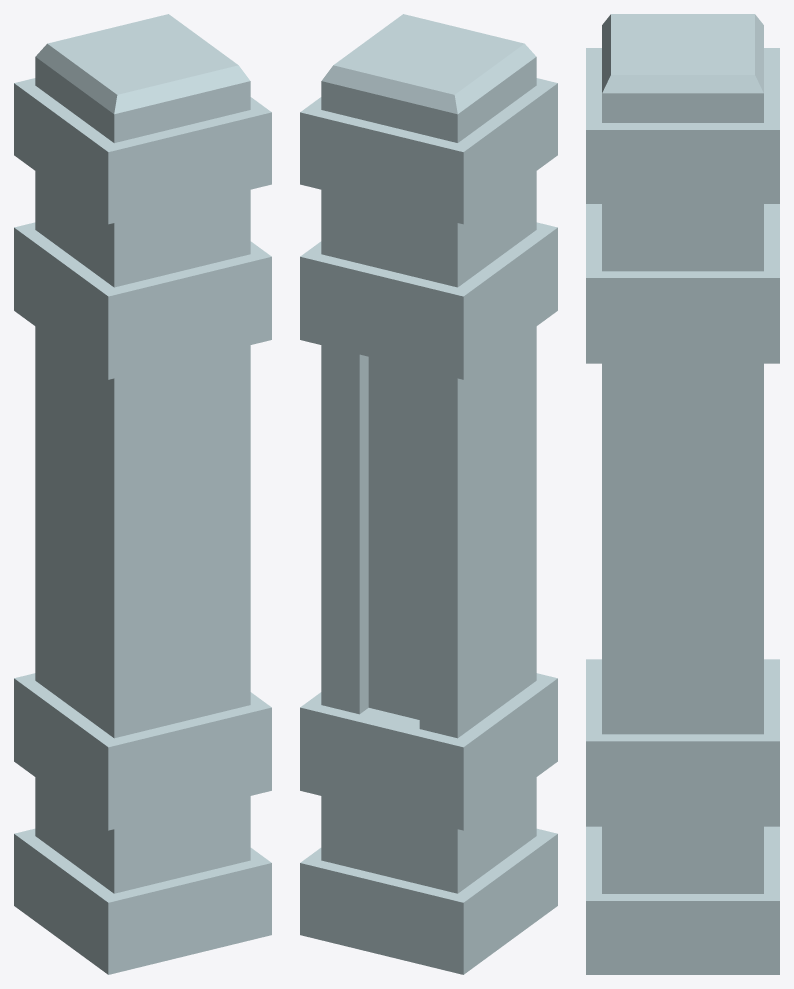
Rendered from pillarSquare.glb.
3 renders of one model, left to right at view 1: azimuth 30°, elevation 25°; view 2: azimuth 150°, elevation 25°; view 3: azimuth 270°, elevation 25°, orthographic. The views are drawn at different scales.
Parts seen in each view (by area): view 1: pillarSquare; view 2: pillarSquare; view 3: pillarSquare.
Boxes of the visible parts, x1,y1,x2,y2 form: pillarSquare: (14,14,271,974); pillarSquare: (300,14,557,974); pillarSquare: (586,14,779,974).
Bounding box in the file's own units: 0.2062 × 1.04 × 0.2062.
